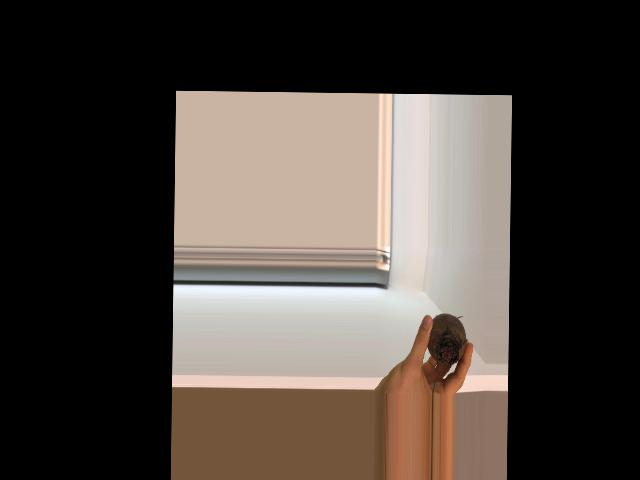beet: (425, 312, 468, 394)
